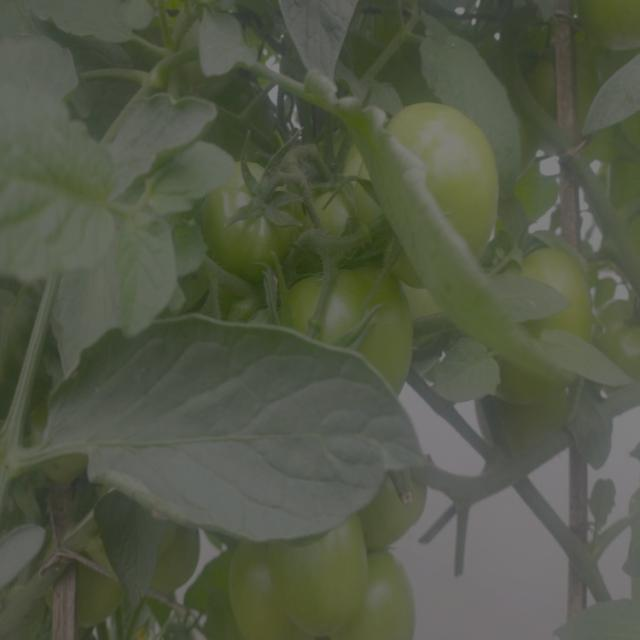tomato: (358, 107, 499, 277), (276, 255, 421, 390), (231, 501, 367, 640), (471, 248, 604, 385), (287, 135, 381, 238), (208, 154, 298, 254), (362, 450, 437, 544), (369, 544, 426, 640), (73, 520, 125, 614), (588, 1, 640, 51)
